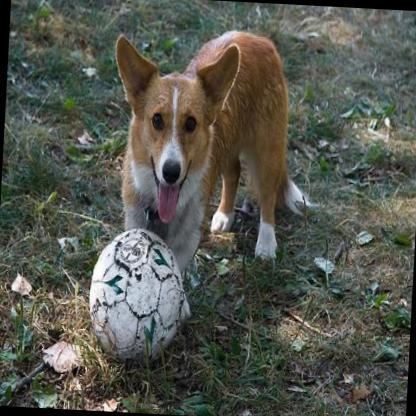Cardigan: (87, 13, 321, 285)
